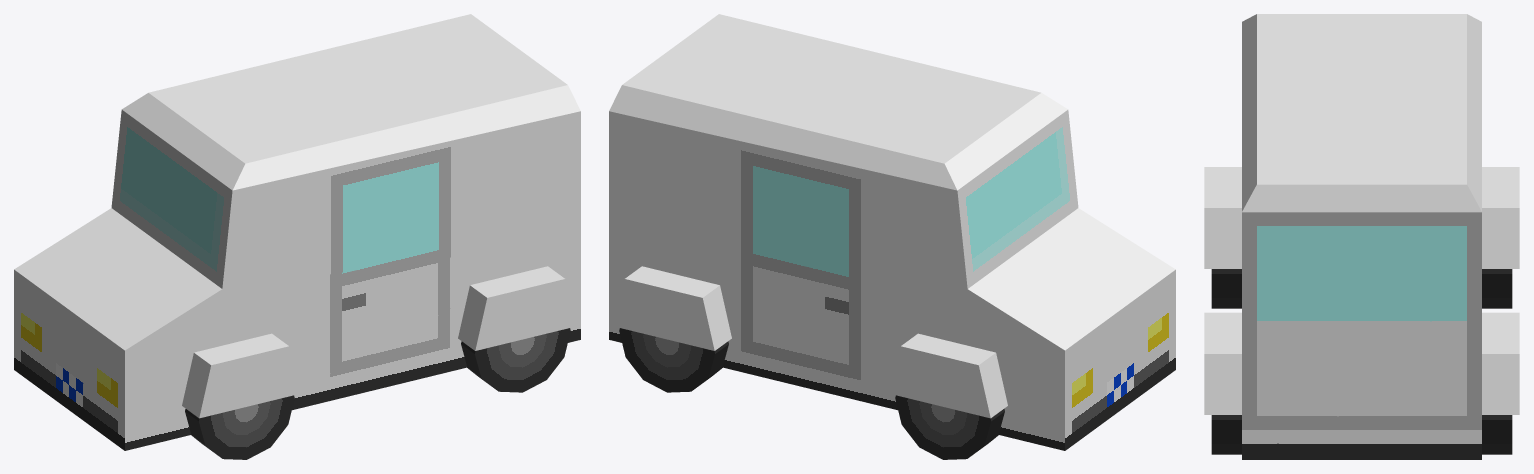
Rendered from white.gltf.
3 renders of one model, left to right at view 1: azimuth 30°, elevation 25°; view 2: azimuth 150°, elevation 25°; view 3: azimuth 270°, elevation 25°, orthographic. The views are drawn at different scales.
Visible parts, largest first — view 1: cube (×3), circle (×2); view 2: cube (×3), circle (×2); view 3: cube (×5), circle (×4).
Boxes of the visible parts, x1,y1,x2,y2 form: cube (×3): (14, 14, 580, 450); circle (×2): (185, 328, 570, 459); cube (×3): (609, 14, 1175, 450); circle (×2): (619, 328, 1004, 459); cube (×5): (1204, 14, 1519, 459); circle (×4): (1211, 269, 1512, 454).
Bounding box in the file's own units: 2.38 × 1.38 × 1.31.
Materials: 1 (1 with a texture image).
